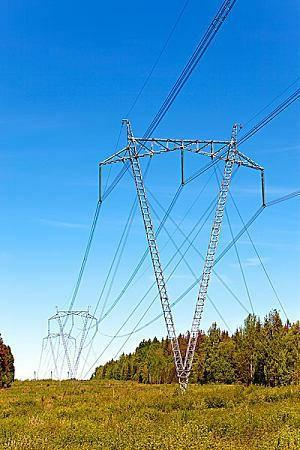power_tower: (97, 107, 269, 396), (50, 296, 102, 381)
